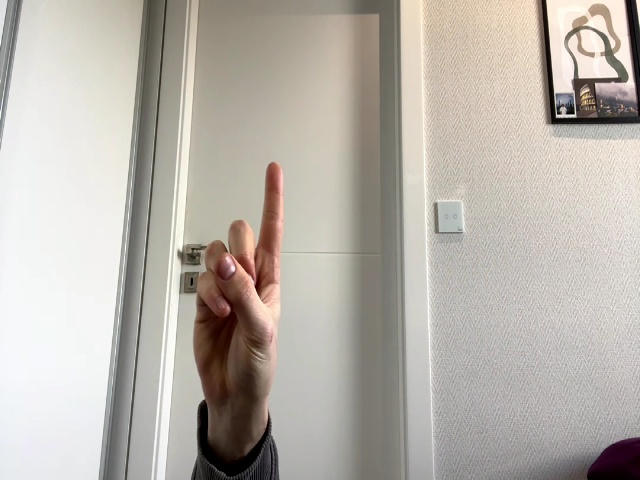Z: (193, 162, 284, 410)
